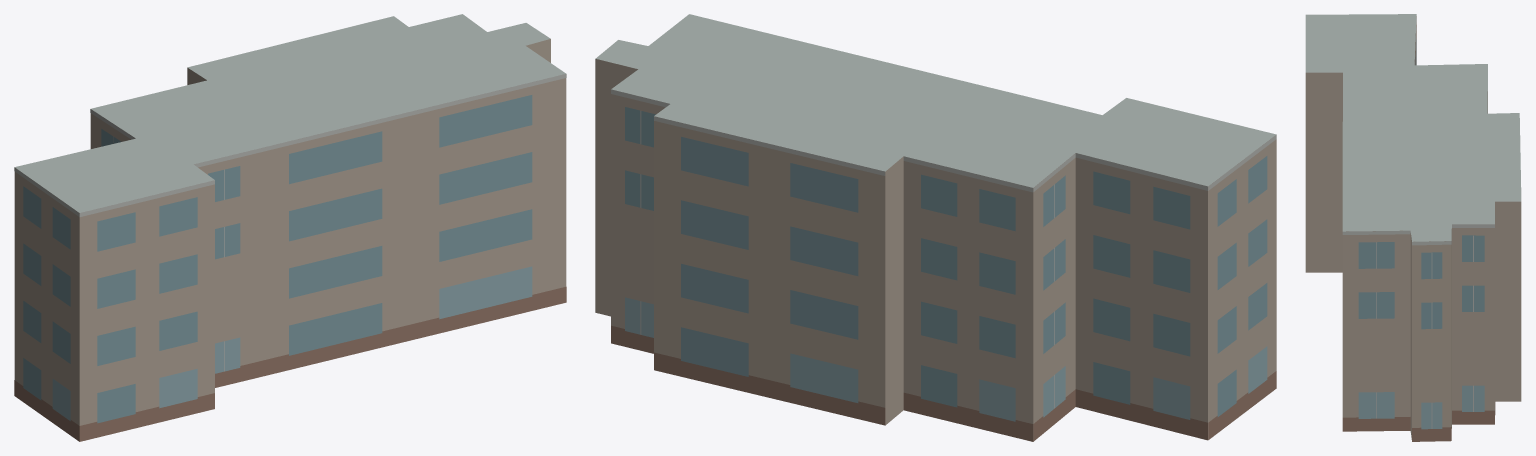
The model's file is survey-upis-32575812.glb.
3 views of the same model, side by side, from view 1: azimuth 30°, elevation 25°; view 2: azimuth 150°, elevation 25°; view 3: azimuth 270°, elevation 25° (orthographic). The views are drawn at different scales.
Visible parts, largest first — view 1: survey-upis-32575812.tmp; view 2: survey-upis-32575812.tmp; view 3: survey-upis-32575812.tmp.
Boxes of the visible parts, x1,y1,x2,y2 form: survey-upis-32575812.tmp: (14,14,566,441); survey-upis-32575812.tmp: (595,14,1276,441); survey-upis-32575812.tmp: (1305,14,1521,441).
Size of the model in its own units: 32.83 by 13.44 by 13.15.
